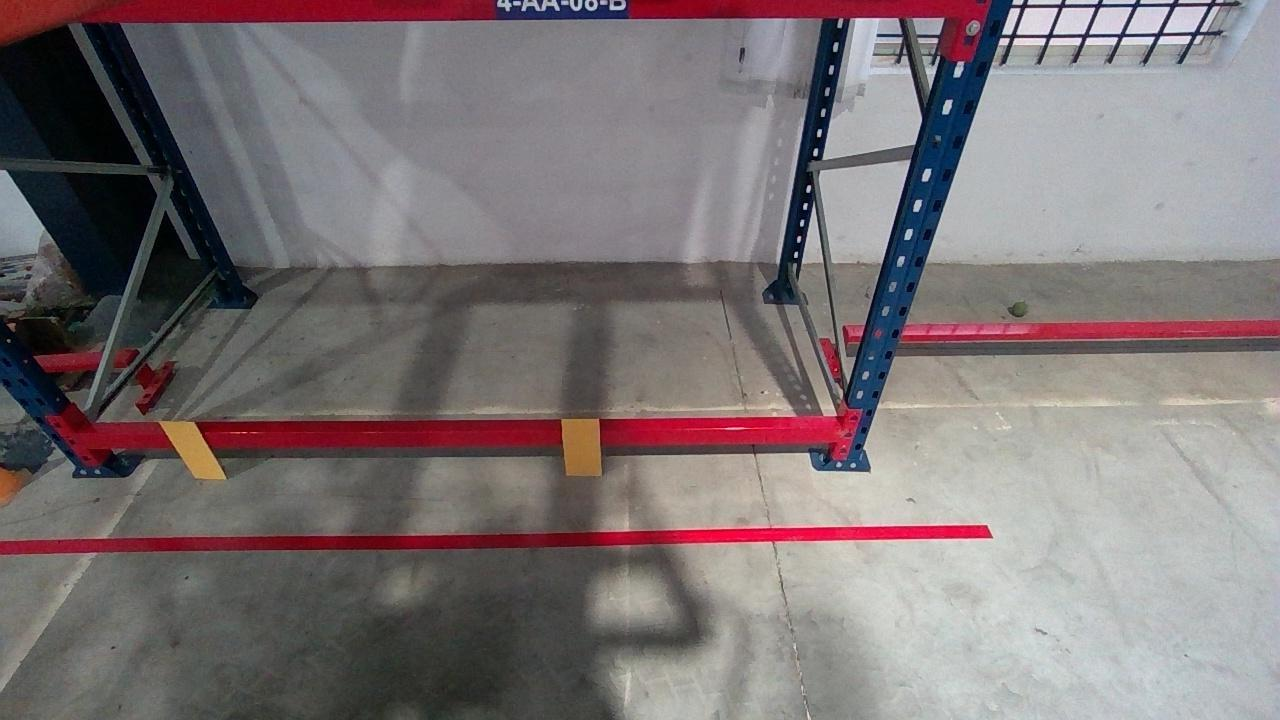h_rack: (75, 0, 978, 24), (75, 426, 842, 448)
orange_strip: (156, 420, 227, 479), (559, 419, 603, 476)
red_line: (2, 525, 988, 552)
